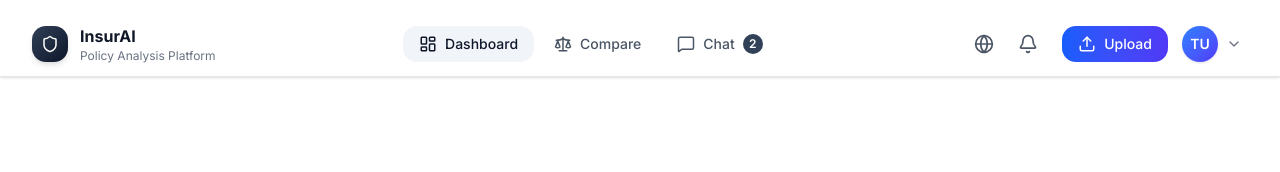
Test: GlobalNavigation › Profile Menu › should show user info in profile menu
Click the button with aria-label "User menu" at (1212,44), box x1=1176 y1=20 x2=1248 y2=68
(page scrolled)
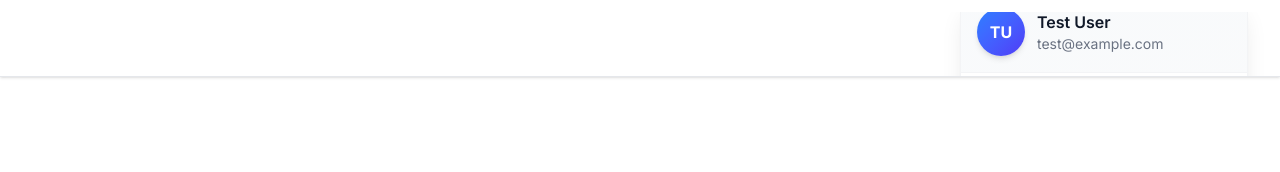
Now the text "Test User" is shown, box x1=1037 y1=12 x2=1111 y2=32
Now the text "test@example.com" is shown, box x1=1037 y1=35 x2=1164 y2=52
